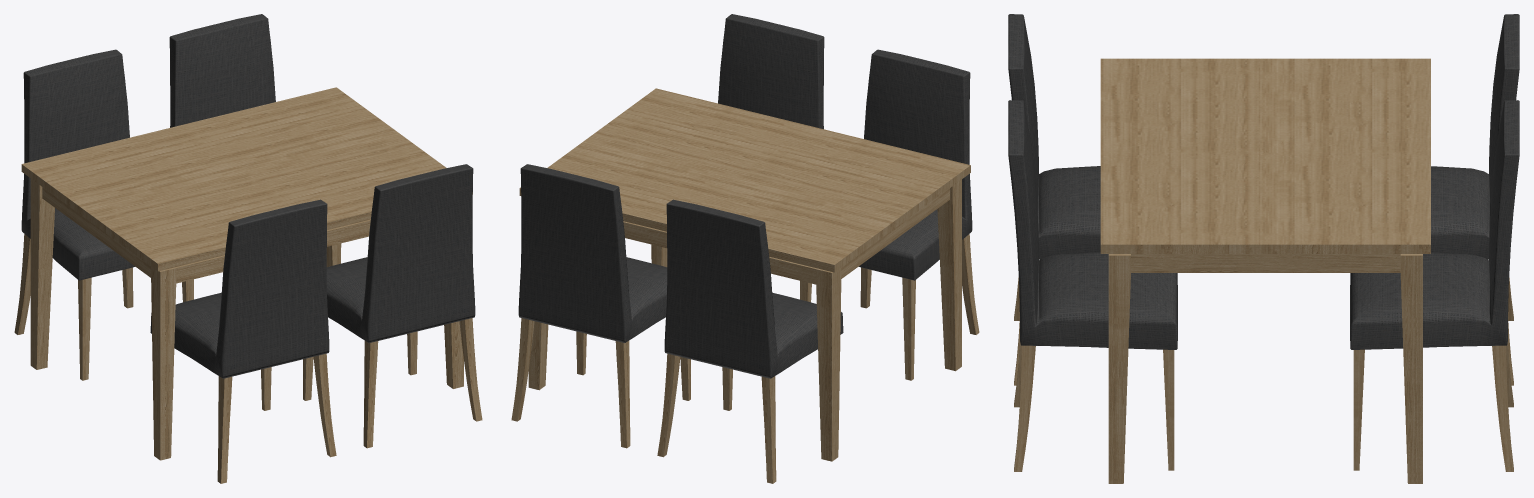
Rendered from DiningSet0.gltf.
3 renders of one model, left to right at view 1: azimuth 30°, elevation 25°; view 2: azimuth 150°, elevation 25°; view 3: azimuth 270°, elevation 25°, orthographic. The views are drawn at different scales.
Visible parts, largest first — view 1: Dining_Table_120x90_Space_Planning, Chair_Upholstered_Space_Planning_Seat (4), Chair_Upholstered_Space_Planning_Seat (3), Chair_Upholstered_Space_Planning_Seat (2), Chair_Upholstered_Space_Planning_Seat, Chair_Upholstered_Space_Planning_Legs (3), Chair_Upholstered_Space_Planning_Legs (4), Chair_Upholstered_Space_Planning_Legs (2); view 2: Dining_Table_120x90_Space_Planning, Chair_Upholstered_Space_Planning_Seat (2), Chair_Upholstered_Space_Planning_Seat, Chair_Upholstered_Space_Planning_Seat (4), Chair_Upholstered_Space_Planning_Seat (3), Chair_Upholstered_Space_Planning_Legs, Chair_Upholstered_Space_Planning_Legs (2), Chair_Upholstered_Space_Planning_Legs (4); view 3: Dining_Table_120x90_Space_Planning, Chair_Upholstered_Space_Planning_Seat (3), Chair_Upholstered_Space_Planning_Seat, Chair_Upholstered_Space_Planning_Seat (4), Chair_Upholstered_Space_Planning_Seat (2), Chair_Upholstered_Space_Planning_Legs, Chair_Upholstered_Space_Planning_Legs (3).
Part boxes in pixels (x1,y1,x2,y2): Dining_Table_120x90_Space_Planning: (21, 87, 472, 460); Chair_Upholstered_Space_Planning_Seat (4): (150, 199, 329, 378); Chair_Upholstered_Space_Planning_Seat (3): (326, 164, 475, 342); Chair_Upholstered_Space_Planning_Seat (2): (21, 49, 135, 280); Chair_Upholstered_Space_Planning_Seat: (169, 14, 275, 127); Chair_Upholstered_Space_Planning_Legs (3): (303, 318, 482, 448); Chair_Upholstered_Space_Planning_Legs (4): (217, 353, 336, 483); Chair_Upholstered_Space_Planning_Legs (2): (14, 234, 193, 380); Dining_Table_120x90_Space_Planning: (519, 88, 970, 461); Chair_Upholstered_Space_Planning_Seat (2): (664, 199, 843, 378); Chair_Upholstered_Space_Planning_Seat: (518, 164, 667, 342); Chair_Upholstered_Space_Planning_Seat (4): (858, 49, 972, 280); Chair_Upholstered_Space_Planning_Seat (3): (718, 14, 824, 129); Chair_Upholstered_Space_Planning_Legs: (511, 318, 690, 448); Chair_Upholstered_Space_Planning_Legs (2): (657, 353, 776, 483); Chair_Upholstered_Space_Planning_Legs (4): (800, 234, 979, 380); Dining_Table_120x90_Space_Planning: (1100, 58, 1430, 483); Chair_Upholstered_Space_Planning_Seat (3): (1008, 100, 1177, 349); Chair_Upholstered_Space_Planning_Seat: (1350, 100, 1519, 349); Chair_Upholstered_Space_Planning_Seat (4): (1008, 14, 1100, 259); Chair_Upholstered_Space_Planning_Seat (2): (1431, 14, 1519, 259); Chair_Upholstered_Space_Planning_Legs: (1353, 342, 1513, 471); Chair_Upholstered_Space_Planning_Legs (3): (1014, 342, 1174, 471).
Bounding box in the file's own units: 1.2 × 0.9381 × 1.39.
3 materials, 3 textured.
